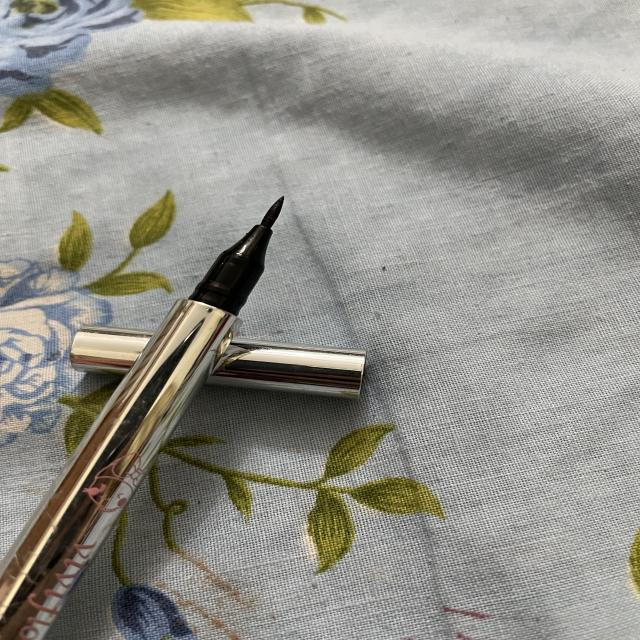eye liner: (0, 181, 329, 640)
